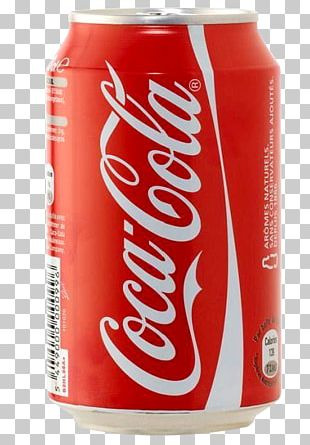coke: (43, 9, 279, 421)
